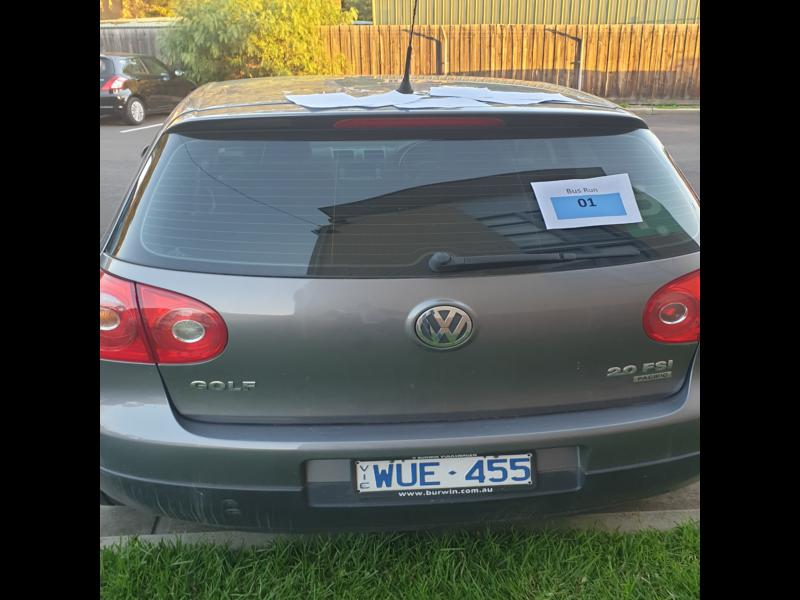BusRun: (551, 194, 629, 219)
PlateNo: (354, 454, 533, 488)
